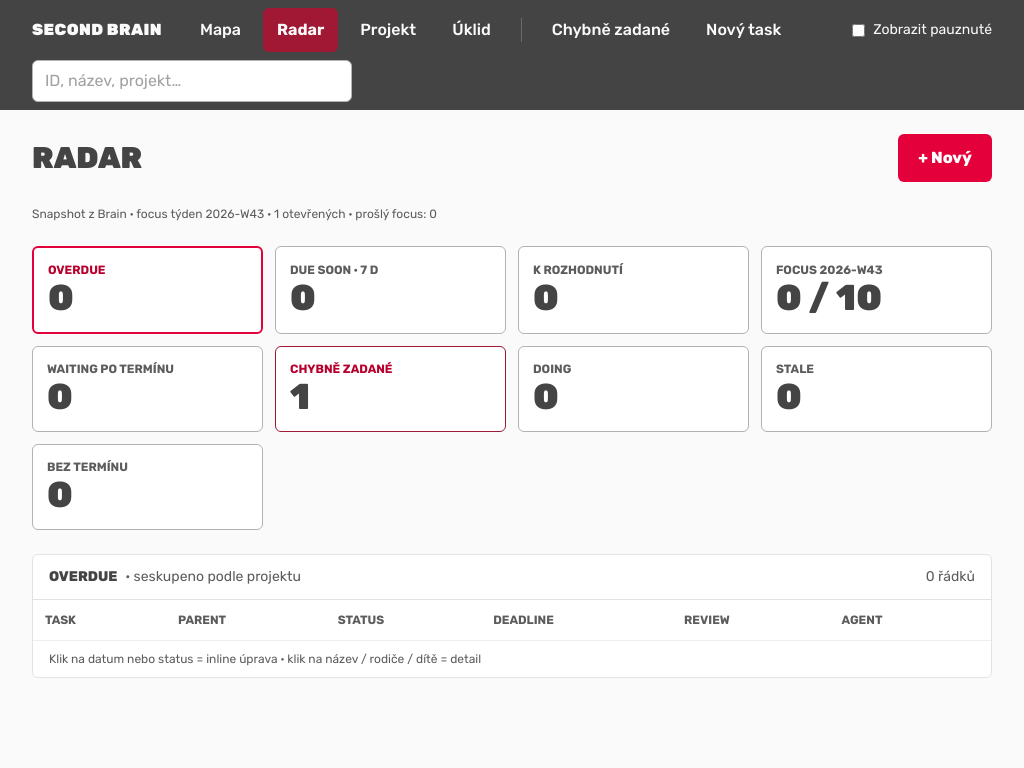
Test: screens › B4 shows one missing-parent error and not the closed parent
Click the button "Chybně zadané" at (611, 30), box [538,8,684,52]
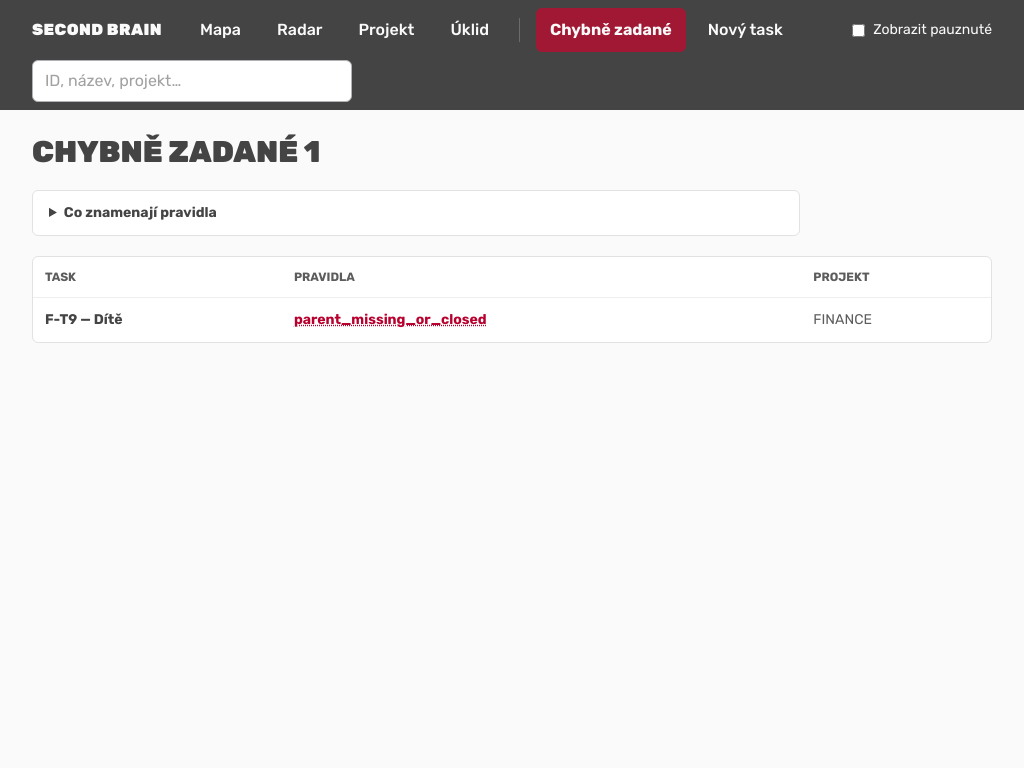
Result: the heading "Chybně zadané 1" is shown at [32,134,320,170]
Result: the button "F-T9 — Dítě" is shown at [45,310,123,330]
